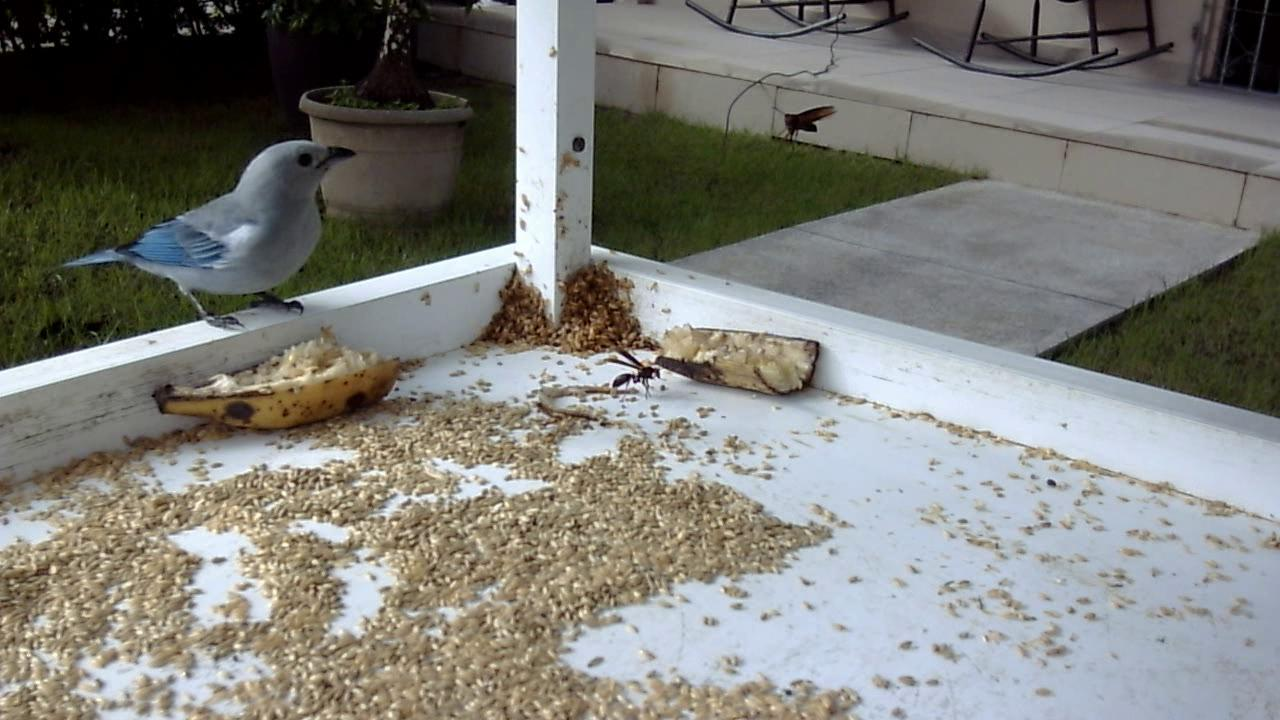sanhaco_da_amazonia: (52, 137, 357, 341)
